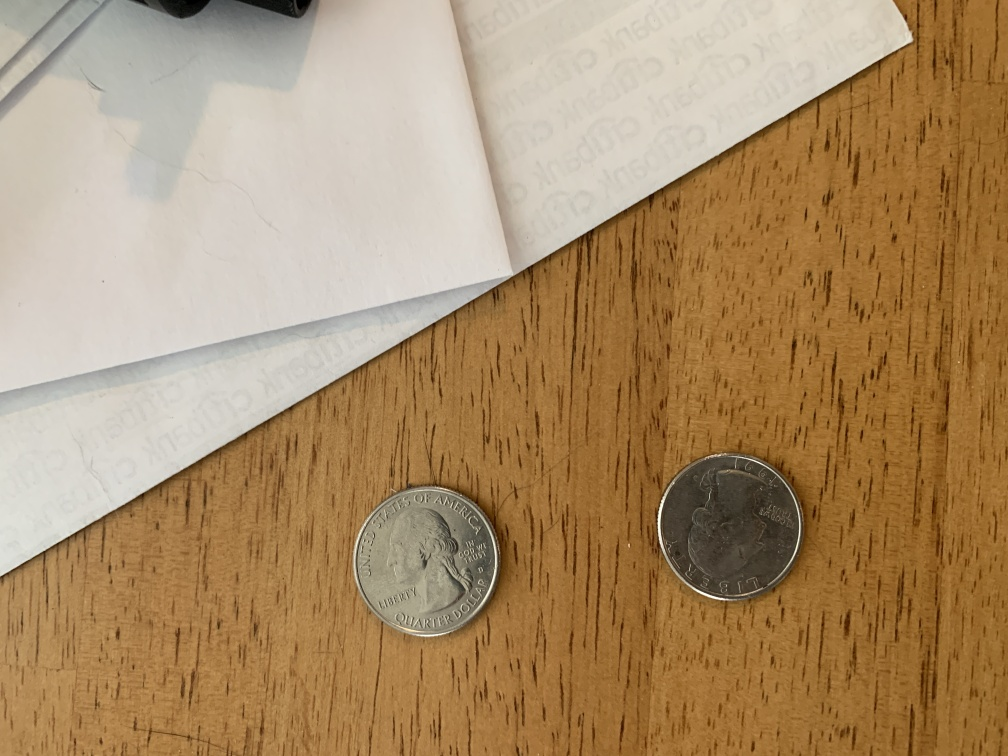quarter: (351, 478, 504, 649), (651, 448, 809, 608)
